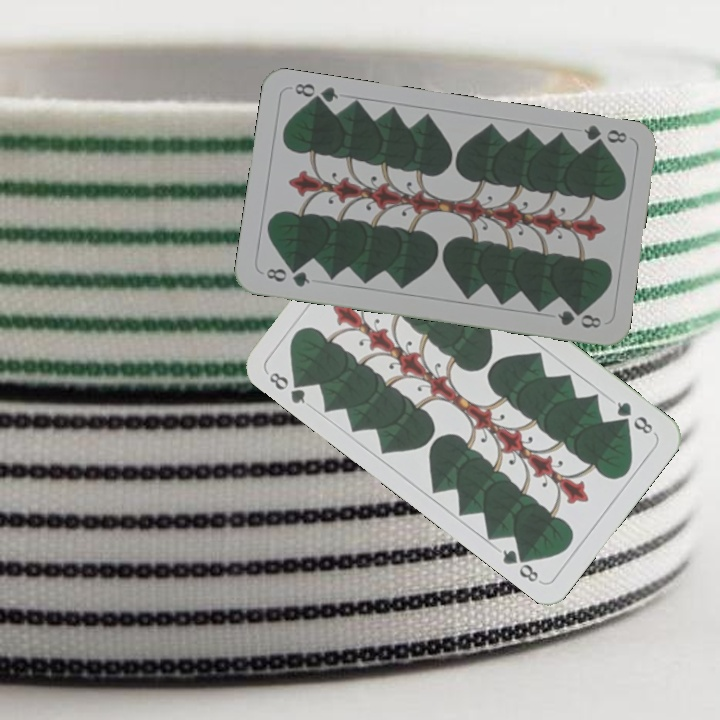G8: (612, 397, 658, 437), (265, 368, 311, 407), (579, 121, 630, 151), (262, 264, 312, 290)
